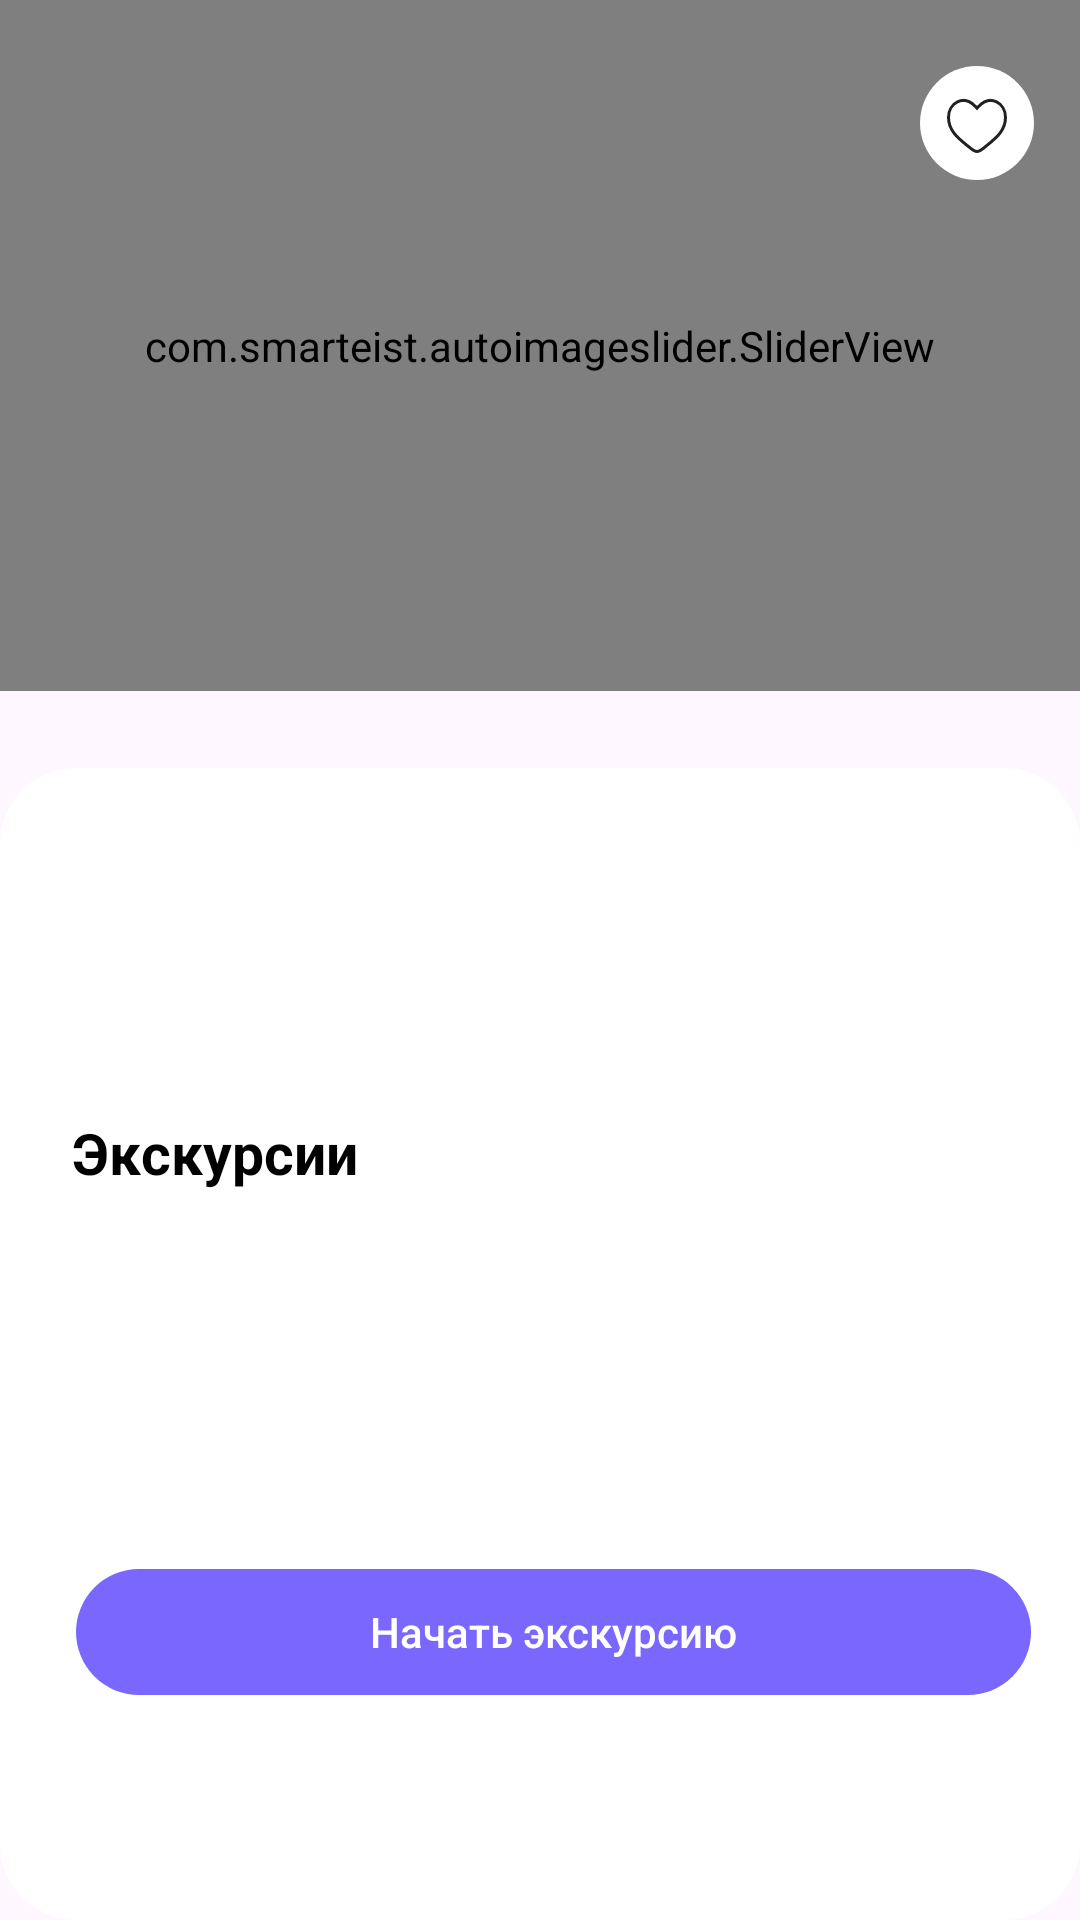

Where icons sit on this 1080 × 1920 app screen, as [left=x1, top=y1, right=x2, bottom=y2]:
toggle favorites: [left=920, top=66, right=1034, bottom=180]
